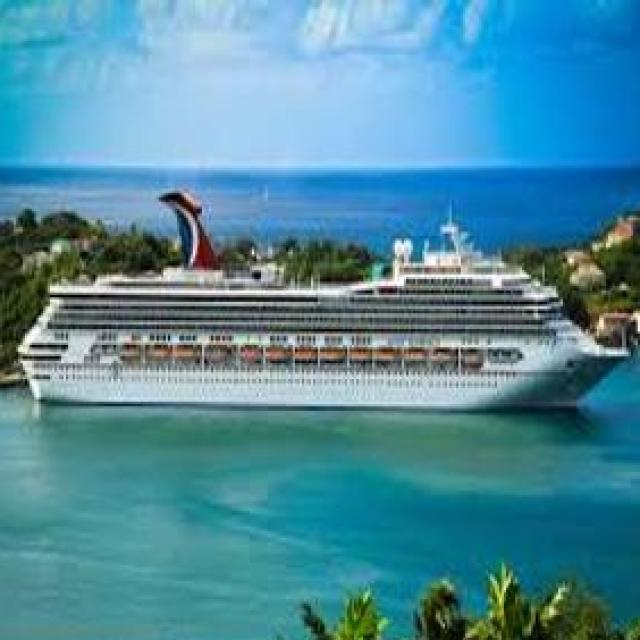passenger ship: (26, 215, 630, 407)
